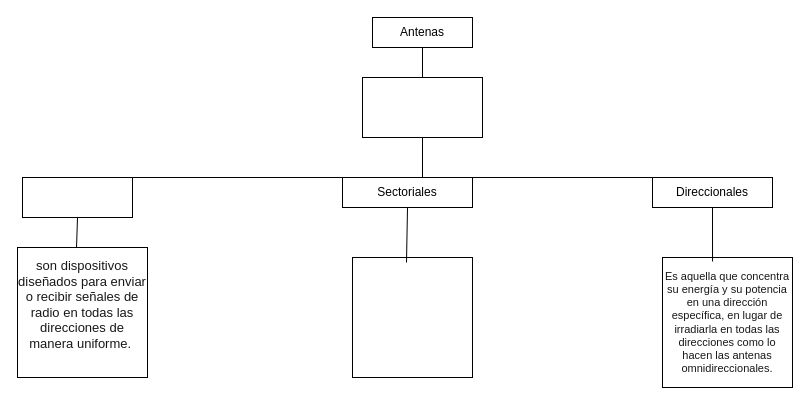
Some shapes in this 810 by 406 pixel diagram are drawn without their labels. The shapes that lost their labels are listed below. From the top down, each one's centre as x and y in pixels, then its label:
point (422, 107): Son dispositivos fundamentales en el campo de las comunicaciones inalámbricas.
point (77, 197): Omnidireccionales
point (412, 317): Antenas que transmiten a un área determinada.
